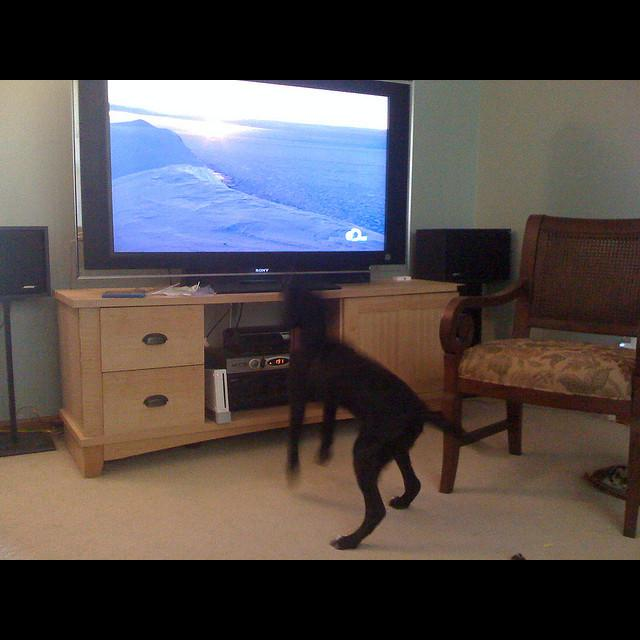Flat-Panel-TV: (73, 82, 411, 288)
